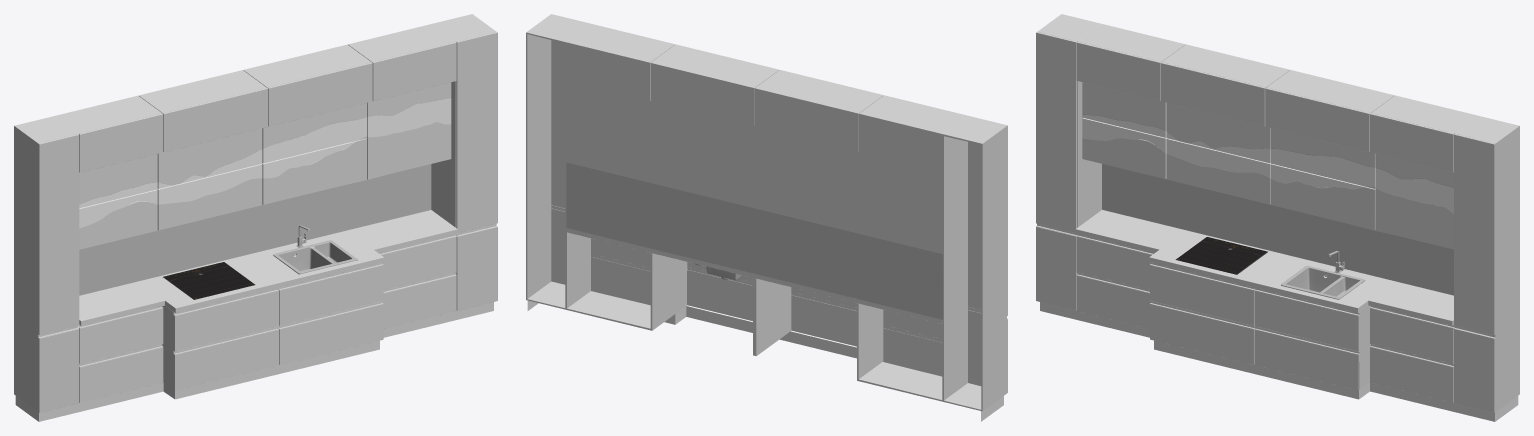
Rendered from kichen_1.fbx.
3 renders of one model, left to right at view 1: azimuth 30°, elevation 25°; view 2: azimuth 150°, elevation 25°; view 3: azimuth 330°, elevation 25°, orthographic.
Parts seen in each view (by area): view 1: Cube.021, Cube.018, Cube.016, wood.001, Cube.005, Cube.026, Cube.002, Cube.013, Cube.006, reca.001, Cube.010, wood.002 (+19 smaller); view 2: Cube.001, Cube.005, Cube.021, Cube.029, Cube, Cube.012, Cube.023, Cube.009, Cube.016, Cube.018, Cube.010, Cube.006 (+4 smaller); view 3: Cube.021, Cube.018, Cube.016, wood.001, Cube.005, Cube.026, Cube.013, Cube.002, Cube.010, reca.001, Cube.006, wood.003 (+19 smaller).
Part boxes in pixels (<box>): Cube.021: <box>79,164,431,295</box>; Cube.018: <box>456,32,497,310</box>; Cube.016: <box>38,134,79,412</box>; wood.001: <box>157,103,366,230</box>; Cube.005: <box>14,14,496,411</box>; Cube.026: <box>79,210,457,325</box>; Cube.002: <box>173,290,278,390</box>; Cube.013: <box>279,265,383,364</box>; Cube.006: <box>79,308,163,402</box>; reca.001: <box>157,117,366,204</box>; Cube.010: <box>381,236,456,328</box>; wood.002: <box>367,82,451,179</box>; Cube.001: <box>567,80,940,253</box>; Cube.005: <box>526,15,1006,411</box>; Cube.021: <box>566,162,942,319</box>; Cube.029: <box>565,25,967,401</box>; Cube: <box>754,70,882,151</box>; Cube.012: <box>650,45,778,126</box>; Cube.023: <box>650,253,883,379</box>; Cube.009: <box>567,25,673,100</box>; Cube.016: <box>967,115,1007,393</box>; Cube.018: <box>550,14,591,284</box>; Cube.010: <box>591,238,650,305</box>; Cube.006: <box>883,309,942,376</box>; Cube.021: <box>1102,164,1453,295</box>; Cube.018: <box>1454,133,1495,412</box>; Cube.016: <box>1036,32,1077,310</box>; wood.001: <box>1166,103,1375,230</box>; Cube.005: <box>1037,14,1519,411</box>; Cube.026: <box>1075,210,1453,325</box>; Cube.013: <box>1254,290,1359,390</box>; Cube.002: <box>1150,265,1254,364</box>; Cube.010: <box>1370,308,1454,402</box>; reca.001: <box>1166,132,1375,188</box>; Cube.006: <box>1076,236,1151,328</box>; wood.003: <box>1082,82,1166,179</box>.
Size of the model in its own units: 438 by 255 by 61.
